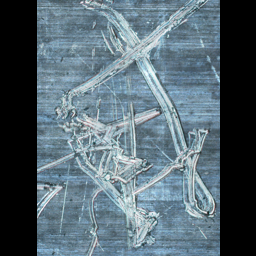d: (60, 0, 196, 119), (53, 92, 156, 195), (166, 120, 216, 225), (118, 191, 163, 252), (84, 184, 112, 255), (36, 173, 70, 224)
